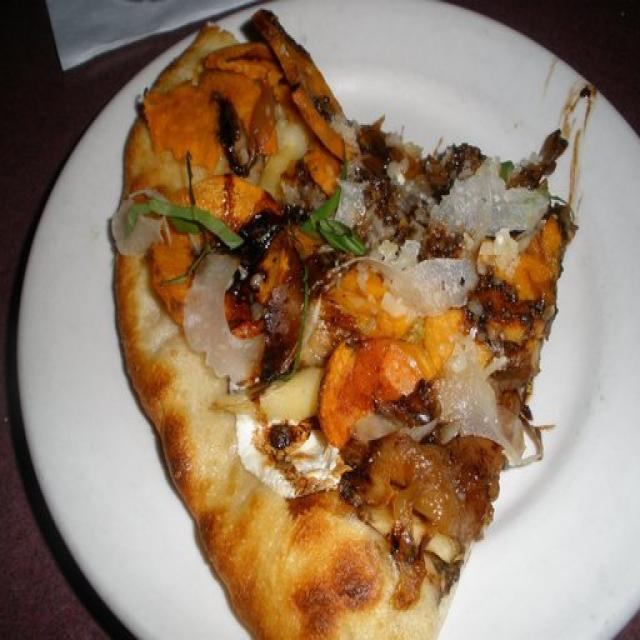Basil: (130, 197, 247, 248), (304, 186, 366, 256)
Beef: (362, 434, 478, 536), (363, 152, 411, 236), (478, 281, 540, 327), (265, 283, 290, 354)
Pizza: (108, 10, 578, 640)
